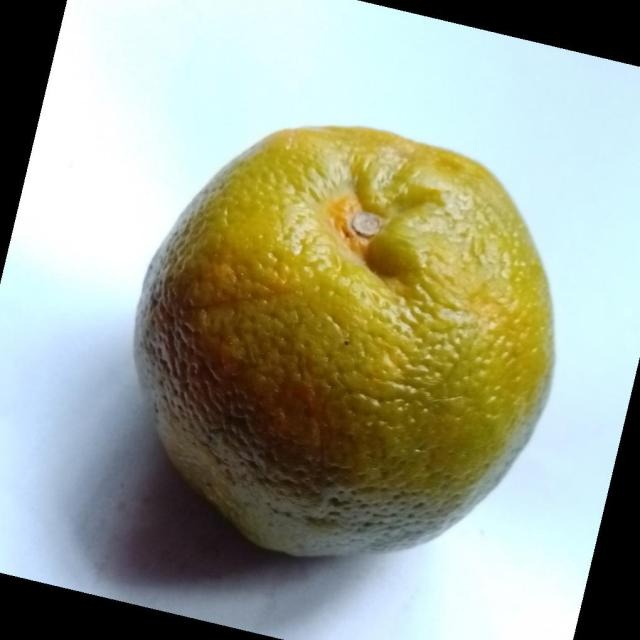agrume: (131, 123, 556, 558)
